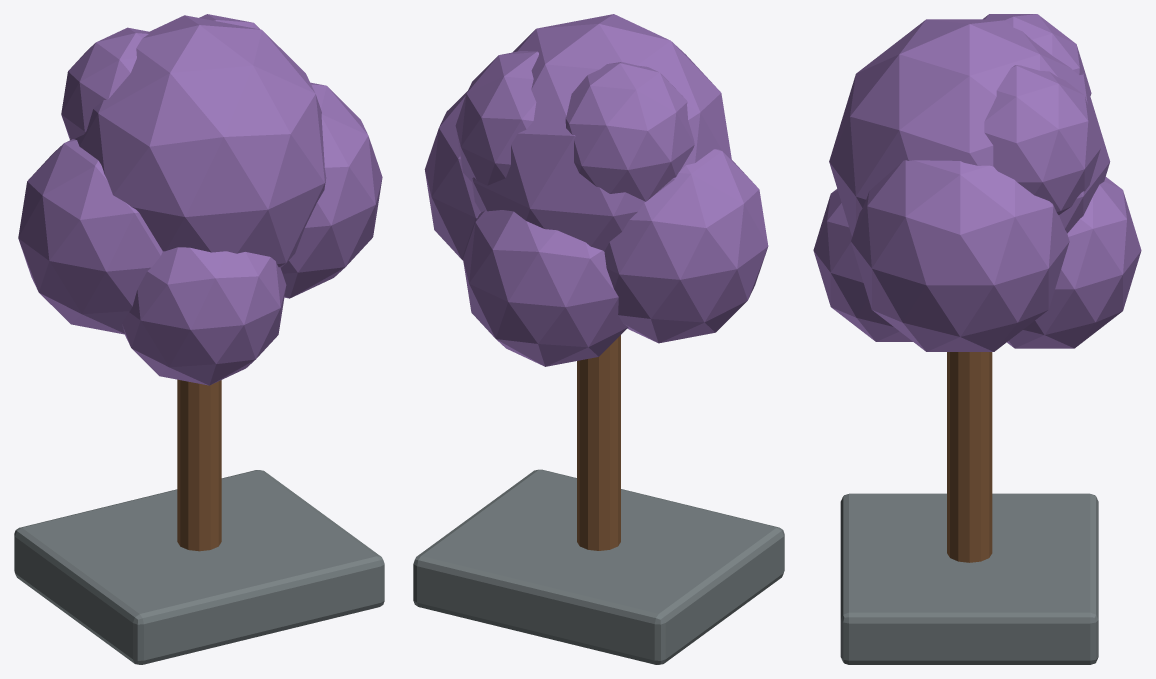
File: australian-jacaranda.glb
3 views of the same model, side by side, from view 1: azimuth 30°, elevation 25°; view 2: azimuth 150°, elevation 25°; view 3: azimuth 270°, elevation 25° (orthographic). The views are drawn at different scales.
Parts seen in each view (by area): view 1: jacaranda_crown_0, jacaranda_planter, jacaranda_trunk; view 2: jacaranda_crown_0, jacaranda_planter, jacaranda_trunk; view 3: jacaranda_crown_0, jacaranda_planter, jacaranda_trunk.
Boxes of the visible parts, x1,y1,x2,y2 form: jacaranda_crown_0: (18,14,382,385); jacaranda_planter: (14,470,384,664); jacaranda_trunk: (177,379,221,551); jacaranda_crown_0: (424,14,768,366); jacaranda_planter: (413,469,784,664); jacaranda_trunk: (577,335,620,550); jacaranda_crown_0: (813,14,1141,351); jacaranda_planter: (840,493,1098,664); jacaranda_trunk: (947,352,992,562).
Size of the model in its own units: 1.85 by 3.12 by 1.6.
